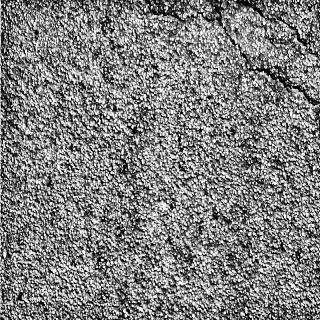crack: (224, 48, 320, 102), (150, 5, 244, 52)
